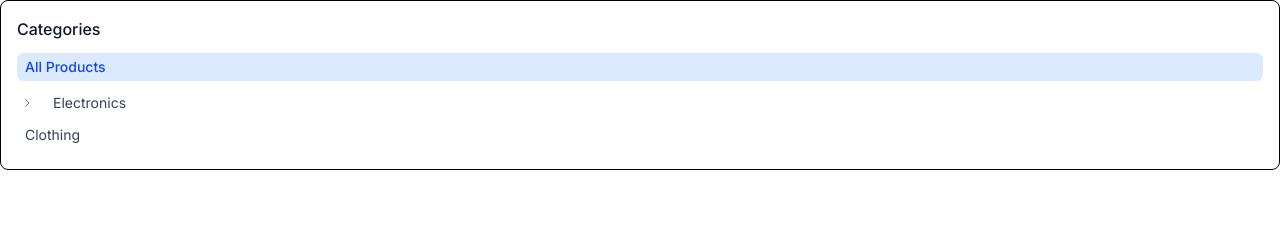
CategoryNavigation › expands subcategories when parent category is clicked
This screenshot has width=1280, height=251.
Expected: the text "Smartphones" is not shown
Expected: the text "Laptops" is not shown
Click the button.
click(27, 103)  # box [17, 93, 37, 113]
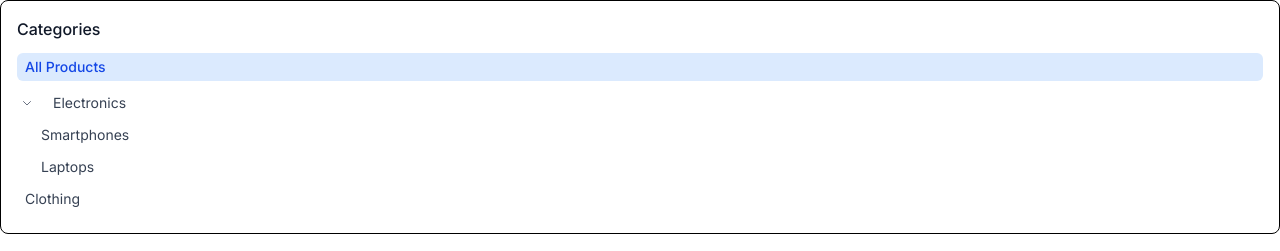
Now the link "Smartphones" is shown, box [41, 126, 129, 143]
Now the link "Laptops" is shown, box [41, 158, 94, 175]
